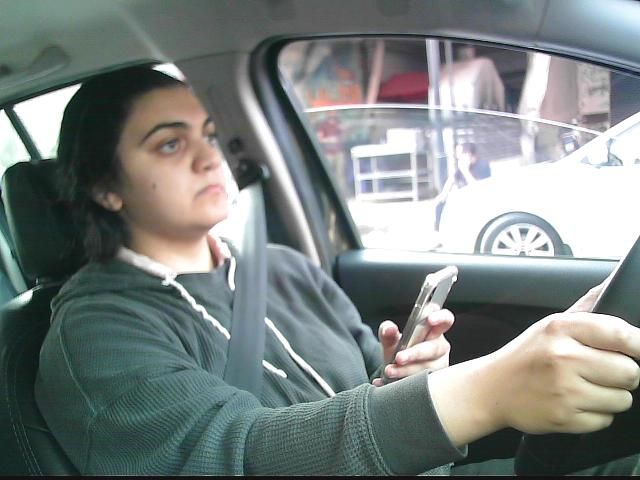PhoneUse: (381, 260, 466, 388)
